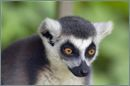cat: (1, 7, 118, 85)
